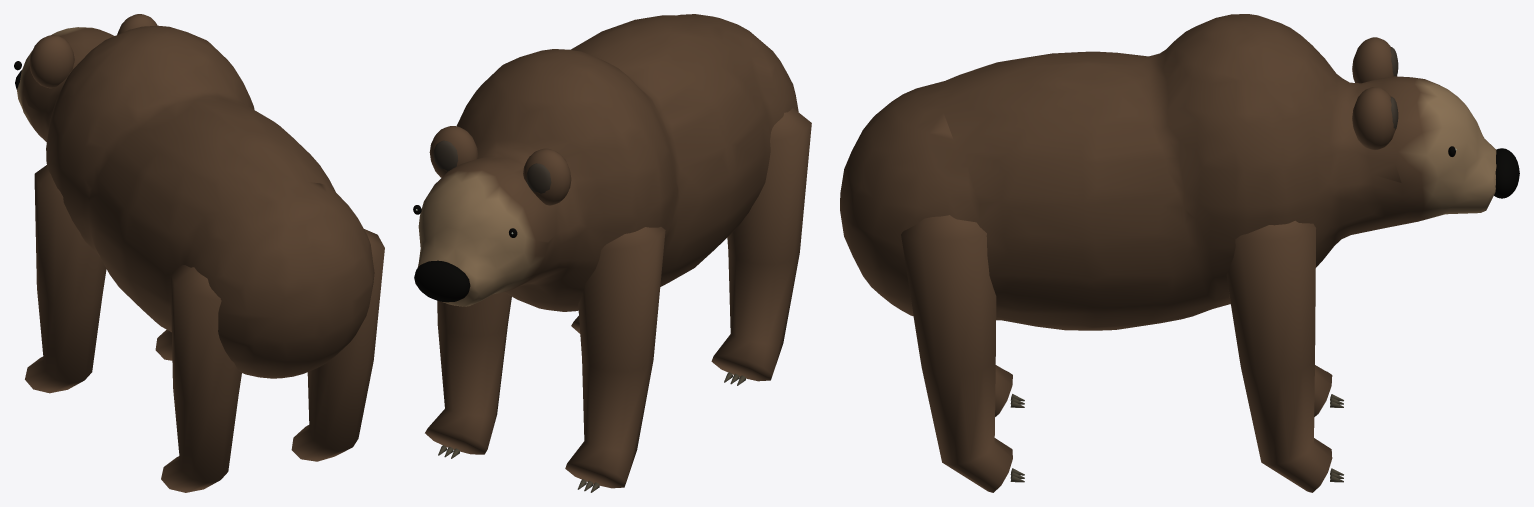
File: animal_brownbear.glb
3 views of the same model, side by side, from view 1: azimuth 30°, elevation 25°; view 2: azimuth 150°, elevation 25°; view 3: azimuth 270°, elevation 25° (orthographic). The views are drawn at different scales.
Parts seen in each view (by area): view 1: Body, LegBL, LegFL, LegBR, LegFR; view 2: Body, LegFL, LegBL, LegFR; view 3: Body, LegBR, LegFR, LegBL, LegFL.
Boxes of the visible parts, left/top/right/bottom form: Body: left=14, top=14, right=374, bottom=378; LegBL: left=161, top=265, right=241, bottom=492; LegFL: left=25, top=165, right=106, bottom=393; LegBR: left=291, top=229, right=384, bottom=461; LegFR: left=155, top=329, right=172, bottom=360; Body: left=413, top=14, right=798, bottom=311; LegFL: left=565, top=227, right=665, bottom=492; LegBL: left=711, top=108, right=811, bottom=385; LegFR: left=425, top=292, right=511, bottom=458; Body: left=840, top=14, right=1519, bottom=330; LegBR: left=901, top=215, right=1024, bottom=492; LegFR: left=1226, top=220, right=1343, bottom=492; LegBL: left=995, top=365, right=1024, bottom=416; LegFL: left=1314, top=365, right=1343, bottom=416.
Size of the model in its own units: 0.8443 by 1.44 by 2.09.
